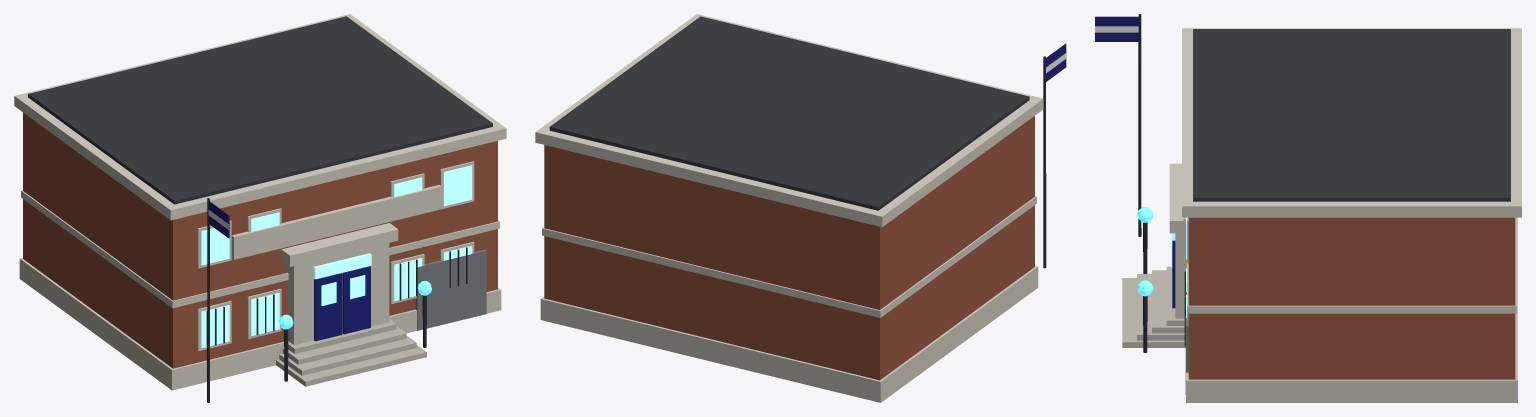
Rendered from places_precinct.glb.
The picture shows the model from 3 angles, left to right: view 1: azimuth 30°, elevation 25°; view 2: azimuth 150°, elevation 25°; view 3: azimuth 270°, elevation 25°; orthographic projection. The views are drawn at different scales.
Parts seen in each view (by area): view 1: PlacesPrecinct_body; view 2: PlacesPrecinct_body; view 3: PlacesPrecinct_body.
Part boxes in pixels (box(x1,y1,x2,y2)): PlacesPrecinct_body: box(14, 14, 506, 402); PlacesPrecinct_body: box(535, 14, 1066, 402); PlacesPrecinct_body: box(1095, 14, 1521, 402).
Bounding box in the file's own units: 15.5 × 9 × 15.7.
